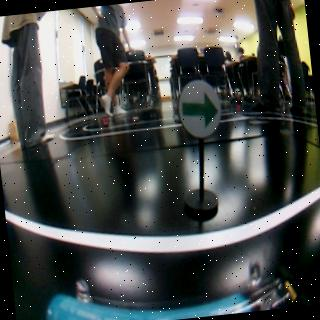right: (175, 77, 224, 141)
